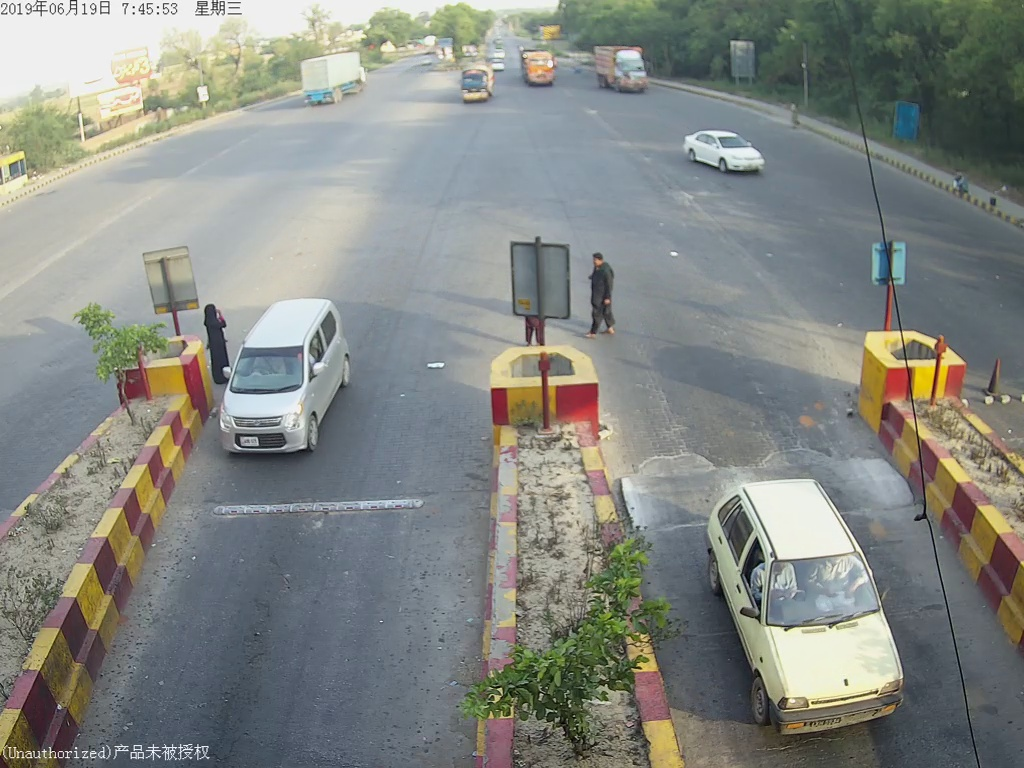Cat-1: (709, 471, 912, 729), (228, 295, 348, 473)
